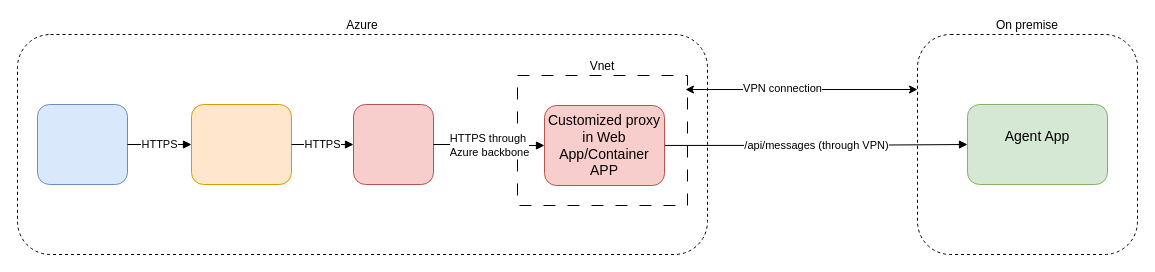
This 1155x272 diagram has some shape labels left out. The shapes that lost their labels are listed below. From the top down, each one's centre as x and y in pixels, then its label:
the point at 82,144: Teams App
the point at 241,144: Azure Bot Service
the point at 393,144: AzureFront Door
